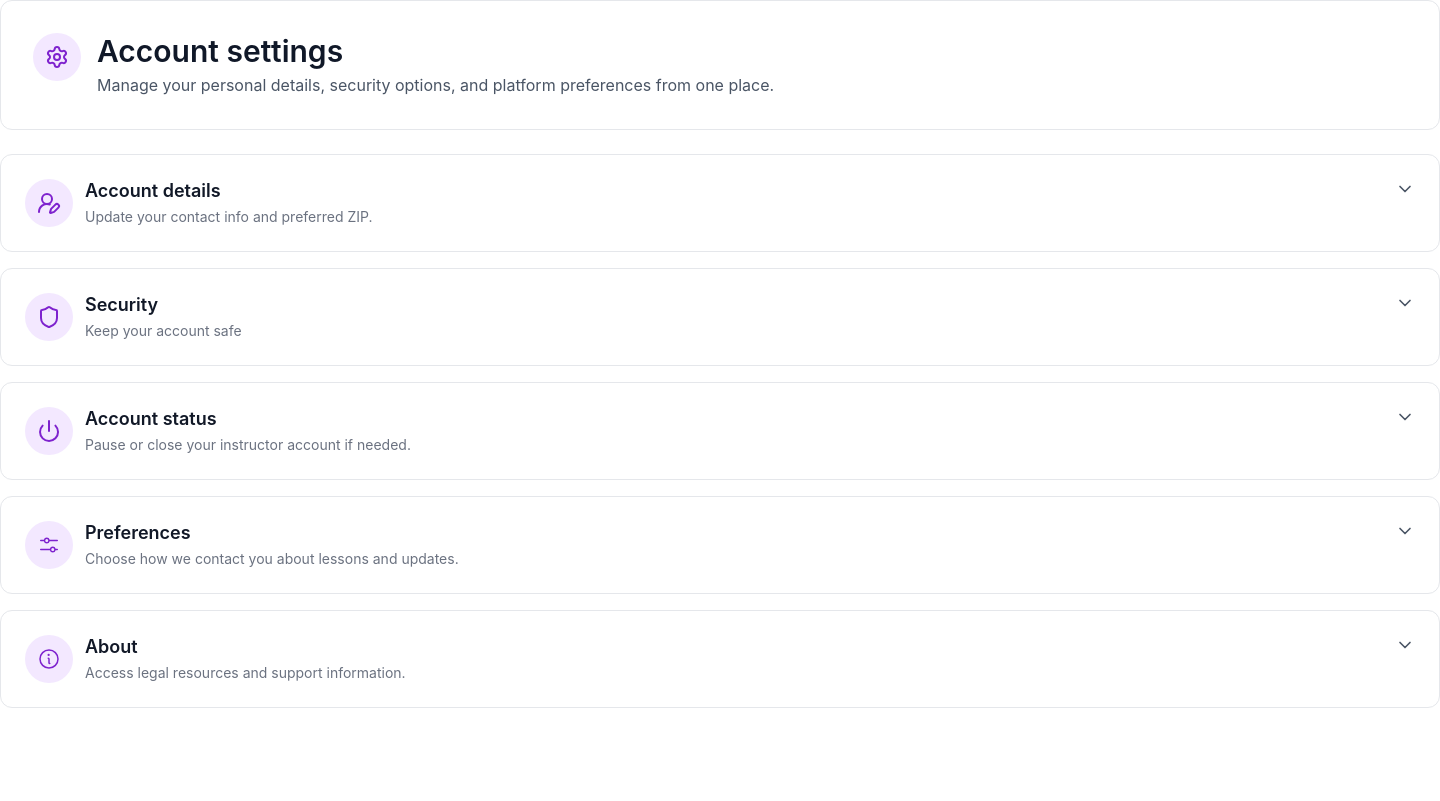
Test: SettingsImpl › shows the updated blocked push notifications warning copy
Click the button "Preferences". click: (49, 545)
box: [25,521,1415,569]
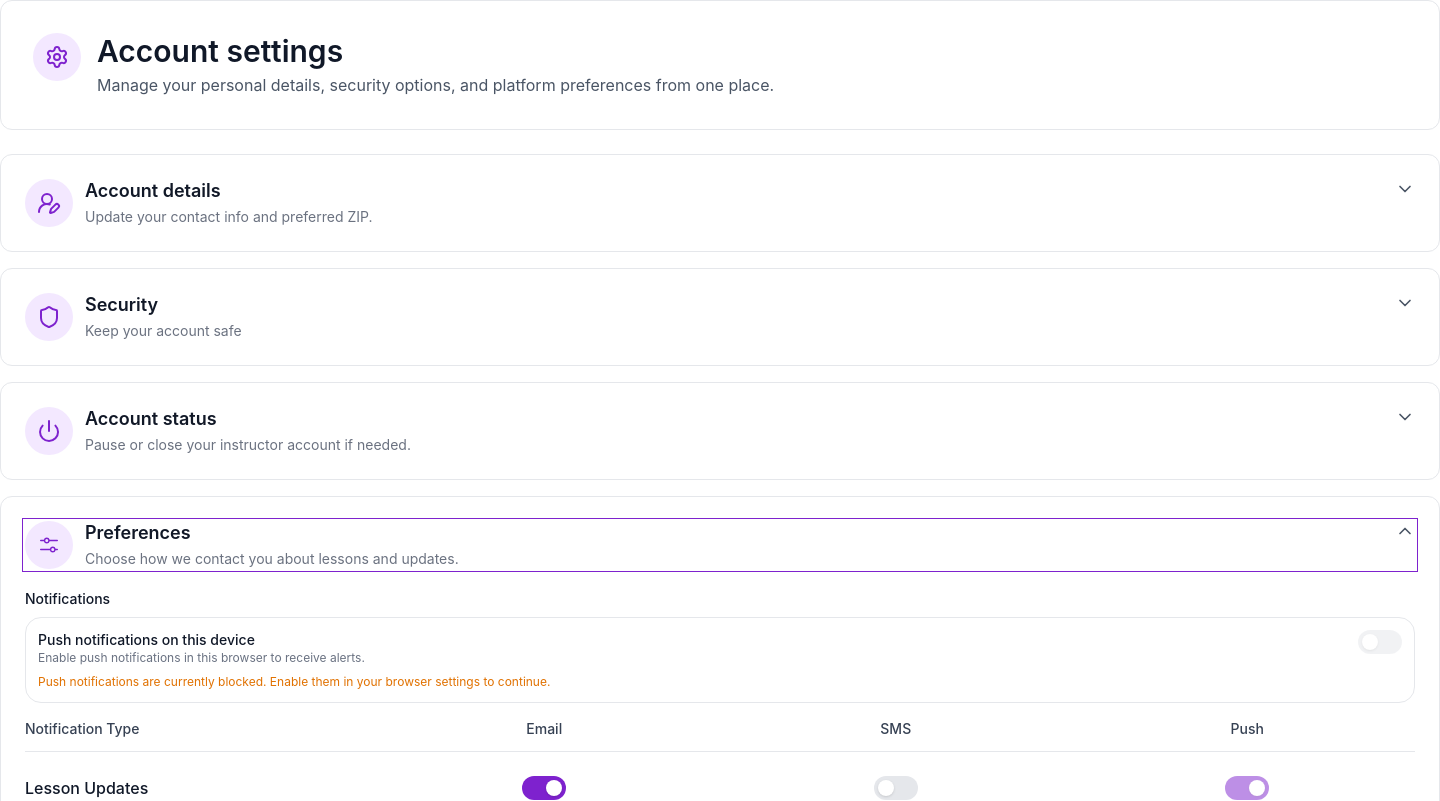
Now the text "Push notifications are currently blocked. Enable them in your browser settings to continue." is shown, box [38,674,550,689]
